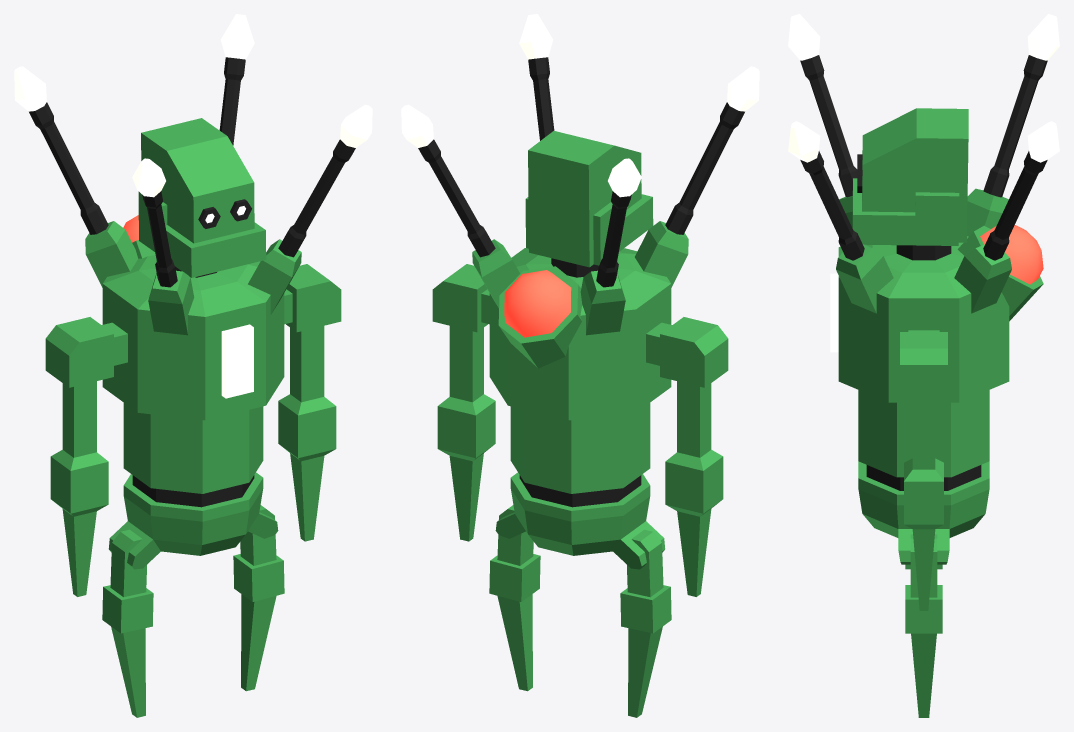
The model's file is ShieldBot.fbx.
The picture shows the model from 3 angles, left to right: view 1: azimuth 30°, elevation 25°; view 2: azimuth 150°, elevation 25°; view 3: azimuth 270°, elevation 25°; orthographic projection.
Visible parts, largest first — view 1: UpperBody, LowerBody, ShieldGenerator, RightArm, LeftArm; view 2: UpperBody, LowerBody, ShieldGenerator, RightArm, LeftArm, BotHealth; view 3: UpperBody, ShieldGenerator, LowerBody, LeftArm, BotHealth.
Boxes of the visible parts, x1,y1,x2,y2 form: UpperBody: (102, 118, 284, 420); LowerBody: (102, 403, 284, 717); ShieldGenerator: (14, 14, 372, 335); RightArm: (45, 317, 127, 596); LeftArm: (278, 264, 341, 541); UpperBody: (489, 131, 671, 420); LowerBody: (489, 403, 671, 717); ShieldGenerator: (401, 14, 759, 335); RightArm: (646, 317, 728, 596); LeftArm: (432, 264, 495, 541); BotHealth: (504, 270, 571, 337); UpperBody: (830, 108, 1043, 402); ShieldGenerator: (788, 14, 1059, 313); LowerBody: (858, 390, 989, 717); LeftArm: (900, 330, 947, 610); BotHealth: (980, 225, 1043, 284).
Bounding box in the file's own units: 1.09 × 2.36 × 0.9355.
